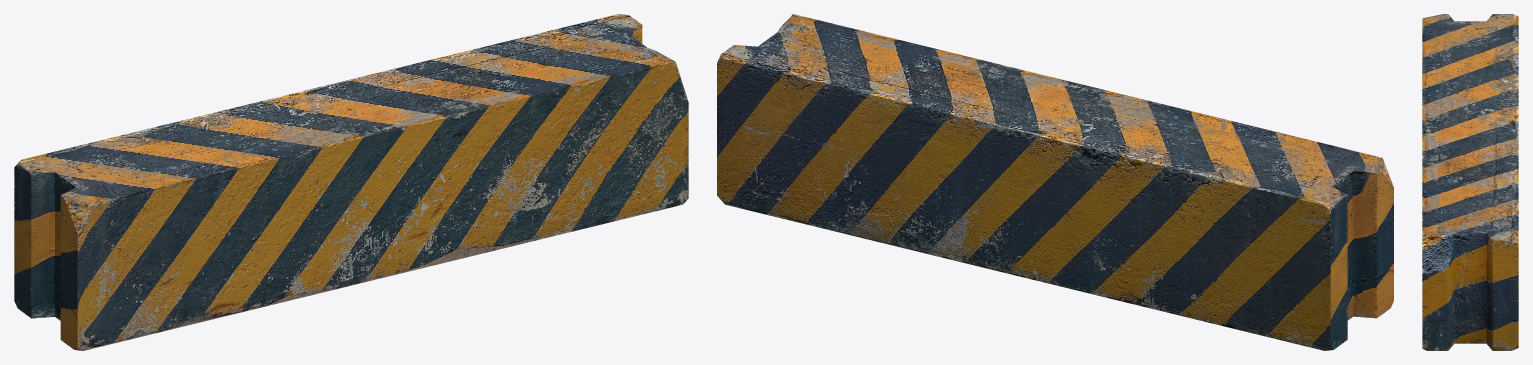
Rendered from roadblock_yellow_01.glb.
3 views of the same model, side by side, from view 1: azimuth 30°, elevation 25°; view 2: azimuth 150°, elevation 25°; view 3: azimuth 270°, elevation 25° (orthographic). The views are drawn at different scales.
Parts seen in each view (by area): view 1: RoadblockYellow_01_RoadblockYellow_01_0; view 2: RoadblockYellow_01_RoadblockYellow_01_0; view 3: RoadblockYellow_01_RoadblockYellow_01_0.
Part boxes in pixels (box(x1,y1,x2,y2)): RoadblockYellow_01_RoadblockYellow_01_0: box(14, 14, 688, 350); RoadblockYellow_01_RoadblockYellow_01_0: box(717, 14, 1393, 350); RoadblockYellow_01_RoadblockYellow_01_0: box(1422, 14, 1518, 350).
Bounding box in the file's own units: 2.2 × 0.4982 × 0.3943.
Materials: 1 (1 with a texture image).
